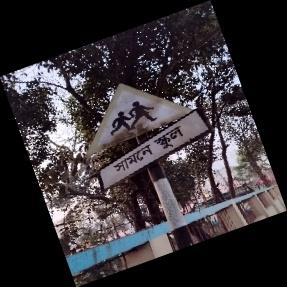School-in-front: (86, 83, 210, 193)
